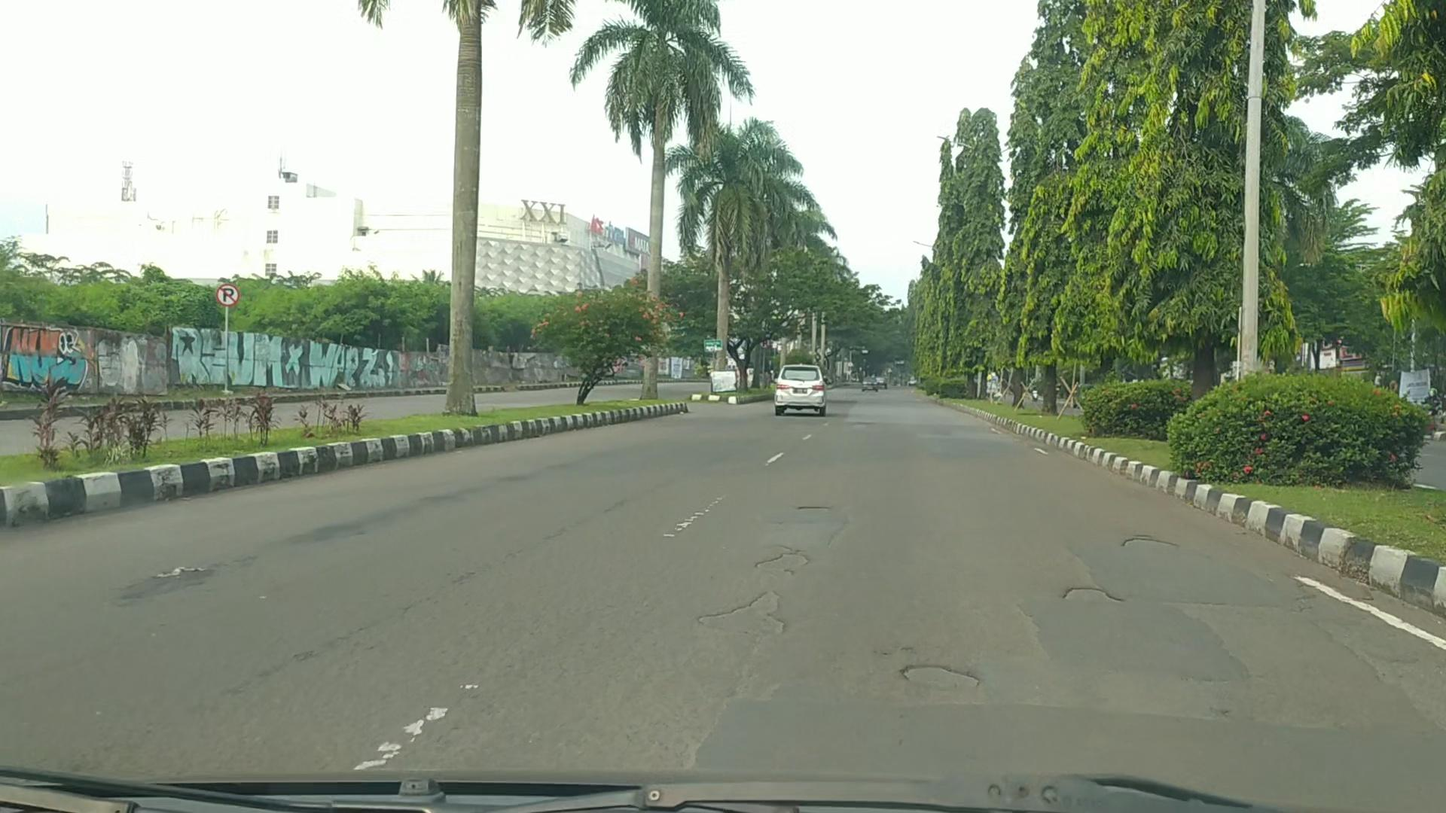pothole: (696, 587, 788, 654), (899, 661, 983, 691), (754, 549, 811, 578), (1060, 584, 1125, 604), (1119, 537, 1179, 551), (796, 505, 832, 512)
